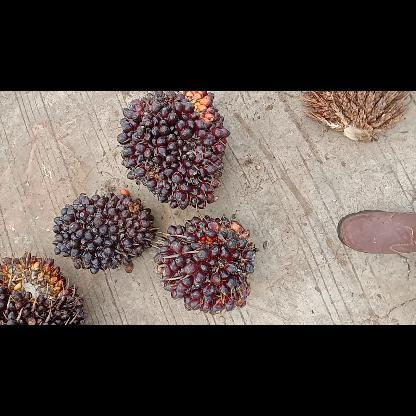TBS mentah: (116, 91, 232, 211), (152, 211, 262, 317), (50, 188, 158, 276)
